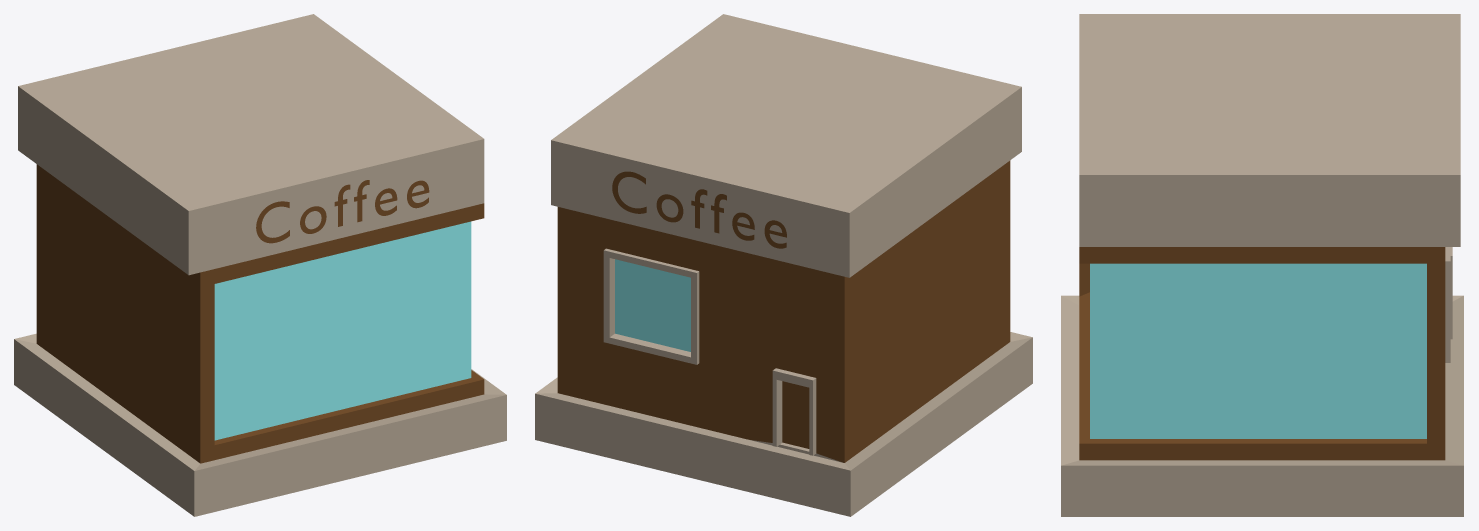
File: Cafe.fbx
The picture shows the model from 3 angles, left to right: view 1: azimuth 30°, elevation 25°; view 2: azimuth 150°, elevation 25°; view 3: azimuth 270°, elevation 25°; orthographic projection. The views are drawn at different scales.
Parts seen in each view (by area): view 1: Cube, Text.001; view 2: Cube, Text; view 3: Cube.
Boxes of the visible parts, x1,y1,x2,y2 form: Cube: (14, 14, 506, 516); Text.001: (256, 180, 429, 243); Cube: (535, 14, 1032, 516); Text: (612, 171, 786, 248); Cube: (1061, 14, 1463, 516).
Bounding box in the file's own units: 990 × 906 × 993.
